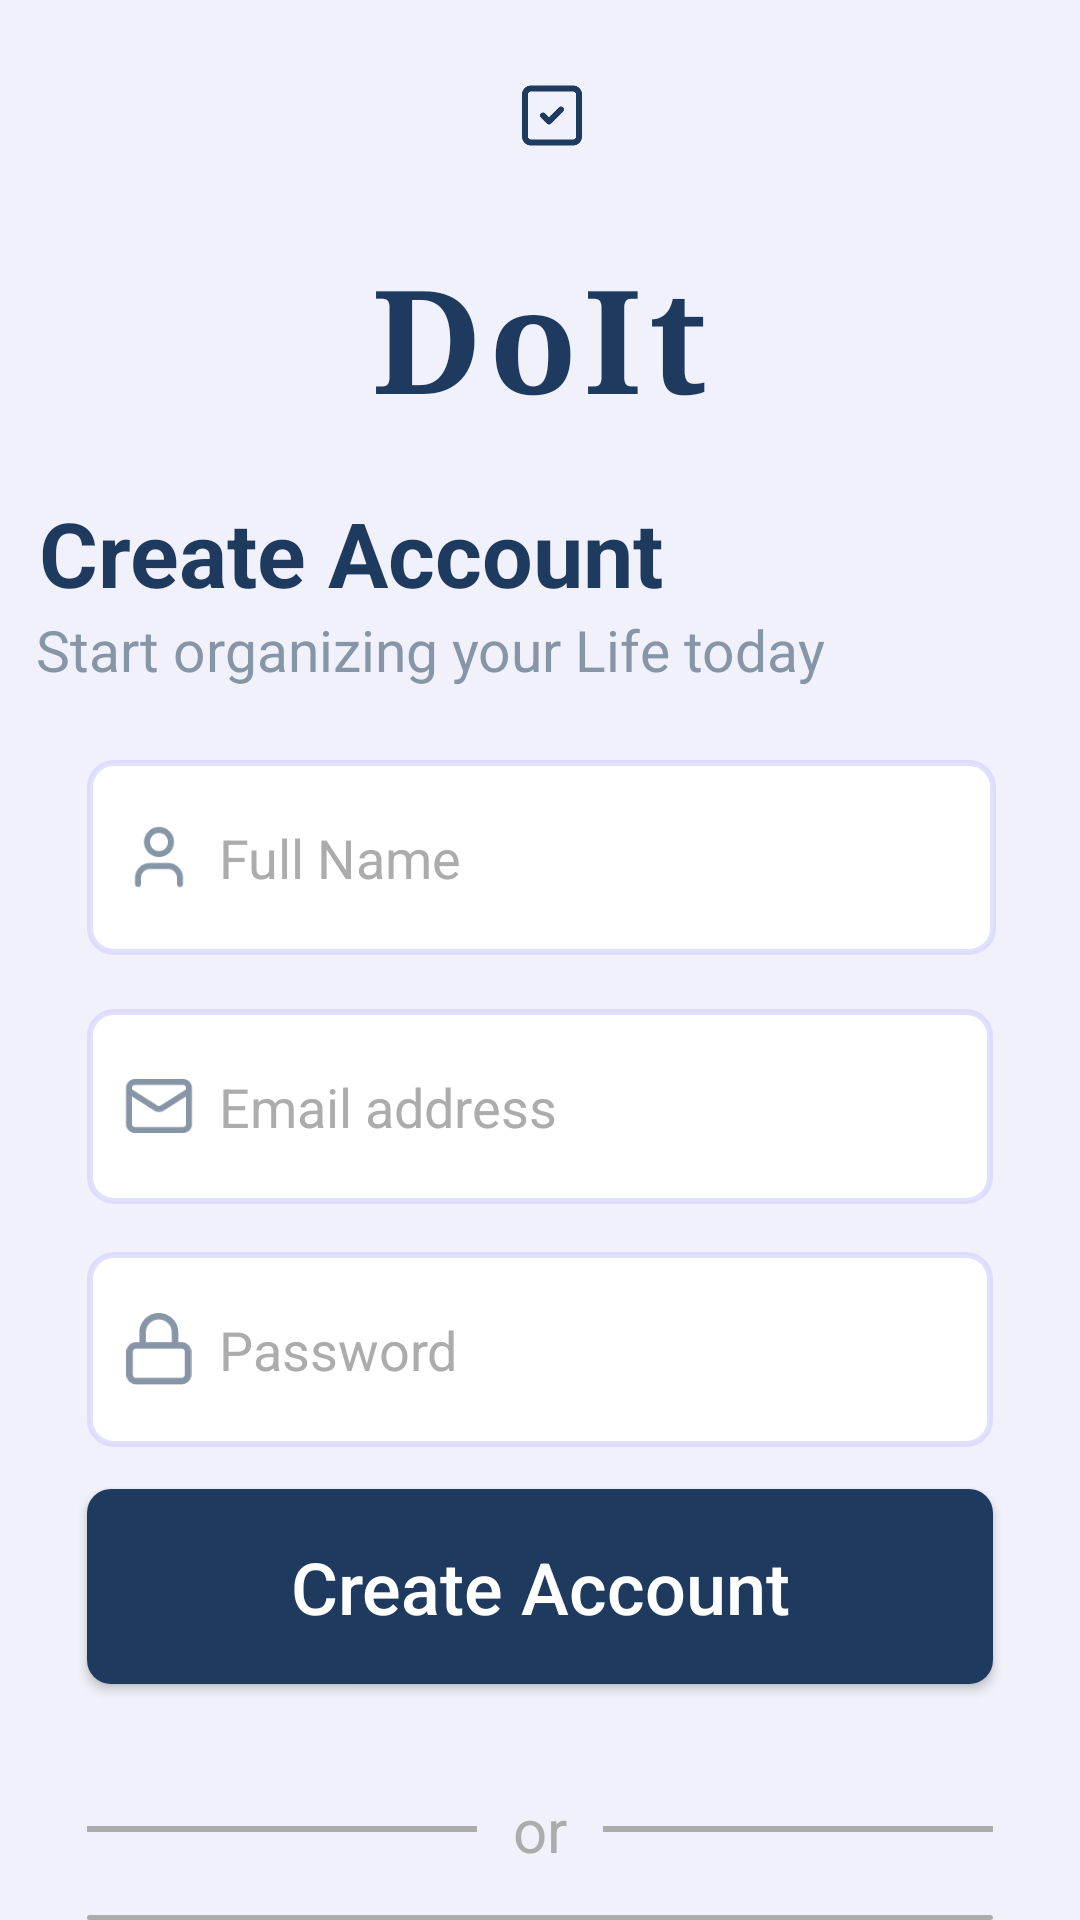

Where icons sit on this 1080*1920 app screen, as (x1, y1, x2, y2):
person: (135, 826, 183, 887)
